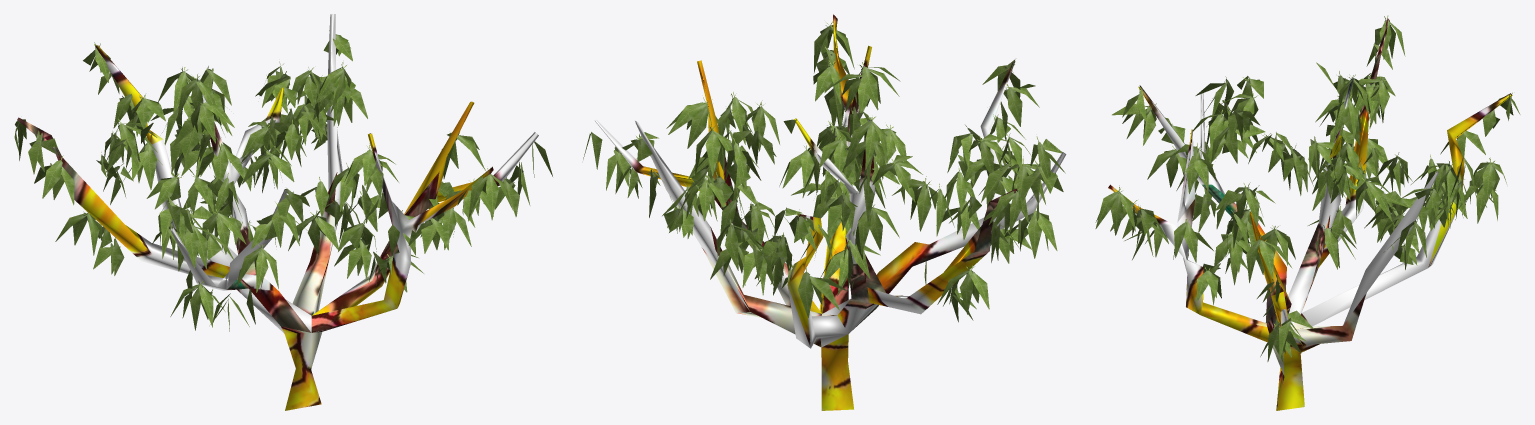
The model's file is peachTree1_lod2.fbx.
The picture shows the model from 3 angles, left to right: view 1: azimuth 30°, elevation 25°; view 2: azimuth 150°, elevation 25°; view 3: azimuth 270°, elevation 25°; orthographic projection. The views are drawn at different scales.
Visible parts, largest first — view 1: peachTree1_lod2; view 2: peachTree1_lod2; view 3: peachTree1_lod2.
Part boxes in pixels (bbox=[...]): peachTree1_lod2: bbox=[14, 14, 552, 410]; peachTree1_lod2: bbox=[583, 14, 1066, 410]; peachTree1_lod2: bbox=[1095, 15, 1520, 410].
Bounding box in the file's own units: 467 × 300 × 383.
